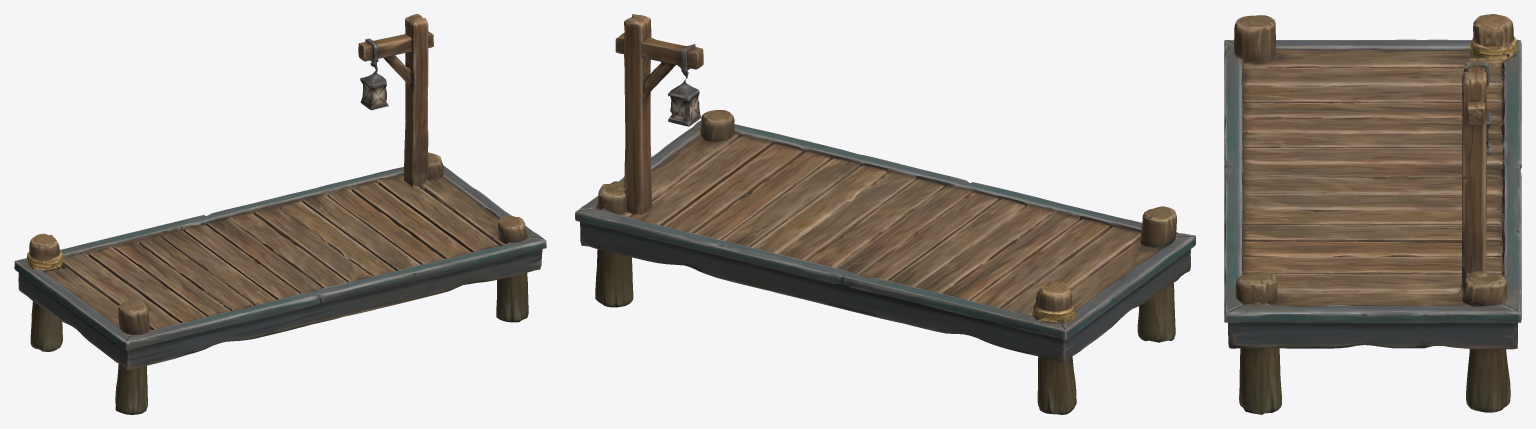
File: riverwatch_dock.glb
The picture shows the model from 3 angles, left to right: view 1: azimuth 30°, elevation 25°; view 2: azimuth 150°, elevation 25°; view 3: azimuth 270°, elevation 25°; orthographic projection. The views are drawn at different scales.
Visible parts, largest first — view 1: Mesh_0; view 2: Mesh_0; view 3: Mesh_0.
Boxes of the visible parts, <box> form: Mesh_0: <box>14,14,546,414</box>; Mesh_0: <box>575,14,1195,414</box>; Mesh_0: <box>1224,14,1521,414</box>.
Size of the model in its own units: 1.9 by 1.05 by 0.8766.
1 material, 1 textured.
